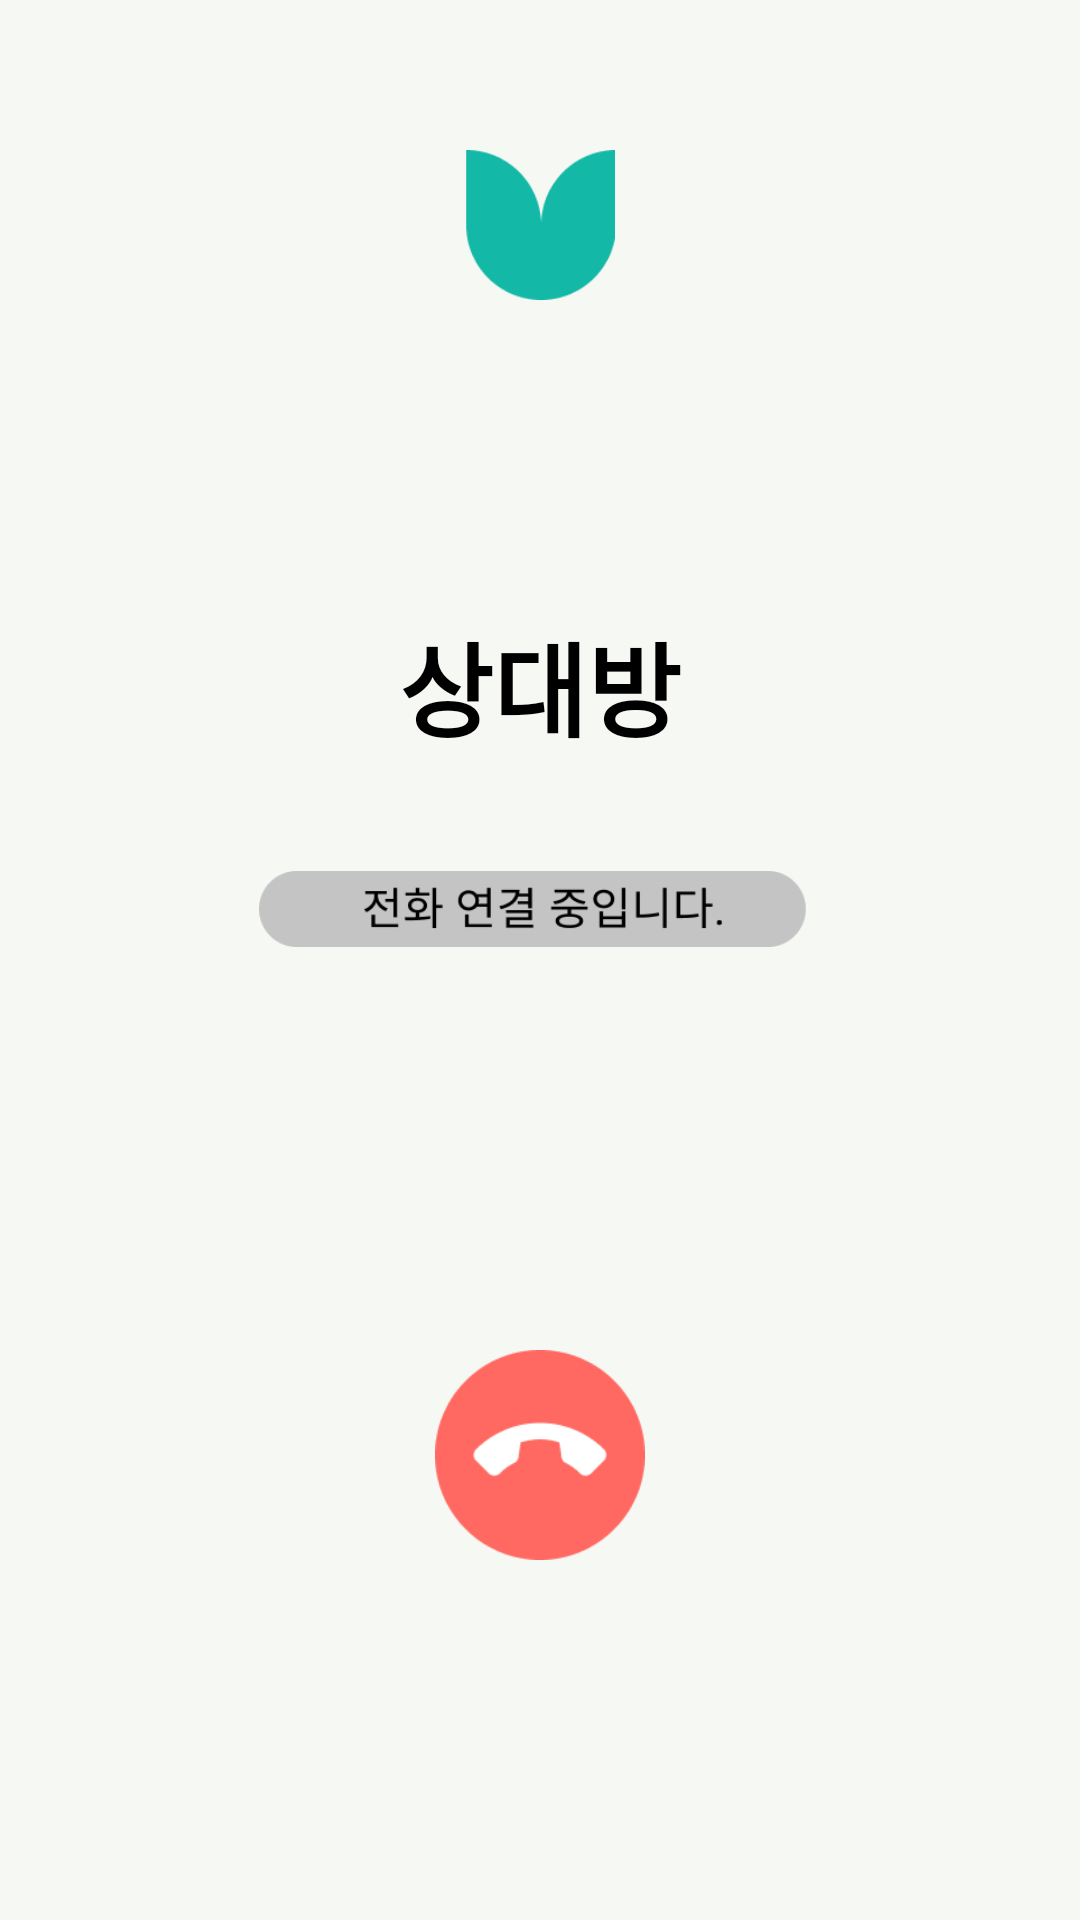

Icon bounding boxes for this 1080 × 1920 phone screenshot, format (x1, y1, x2, y2):
redcall: (435, 1350, 645, 1560)
